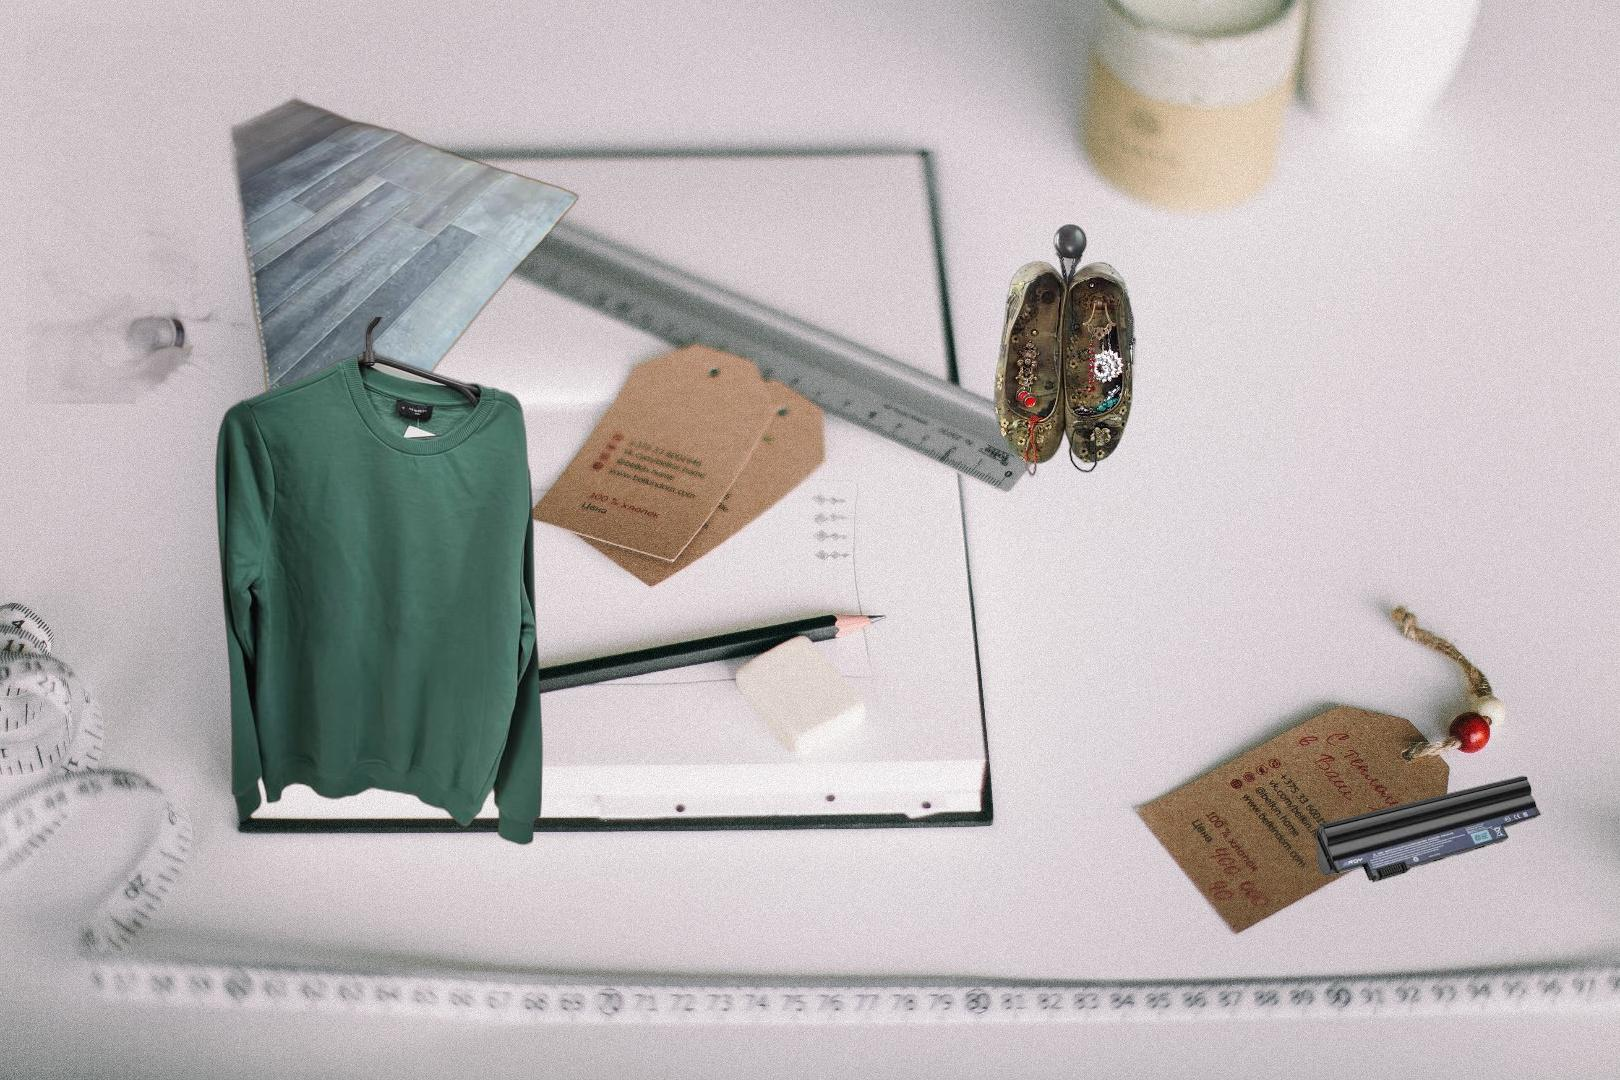battery: (1313, 773, 1544, 885)
clothes: (213, 317, 546, 850)
shoes: (991, 222, 1139, 479)
trashbox-cardboard: (27, 23, 583, 404)
